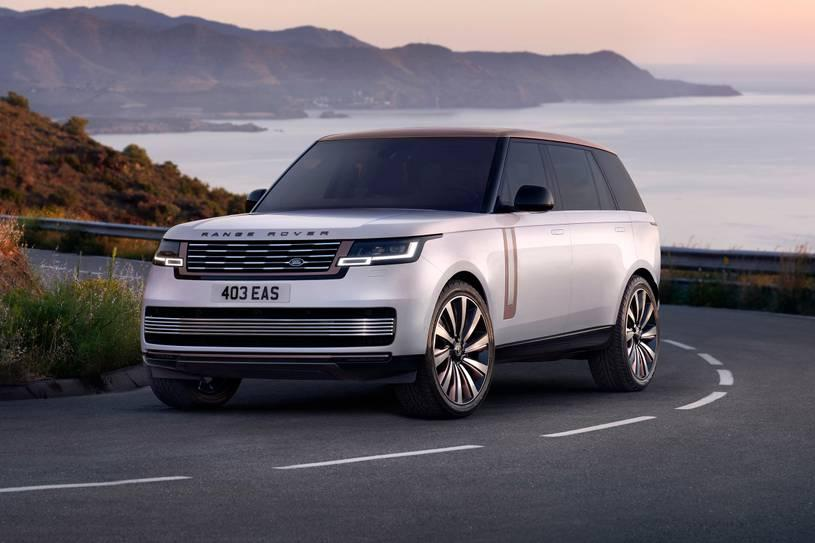range rover: (196, 225, 334, 243)
